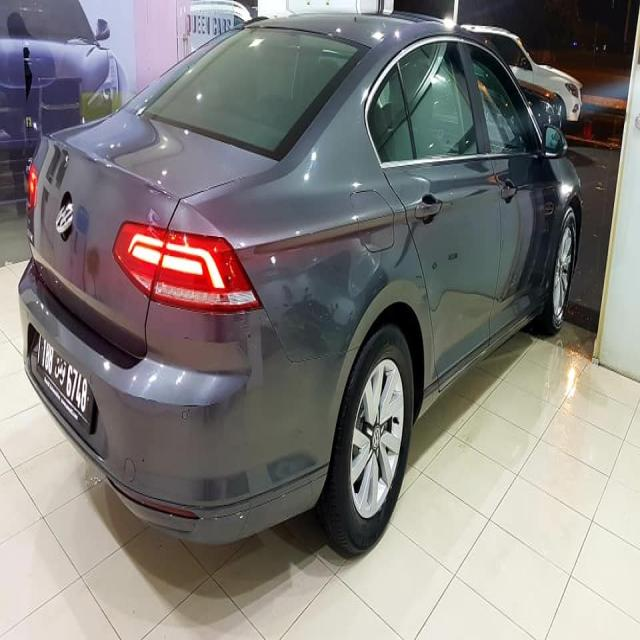LP: (34, 327, 93, 432)
